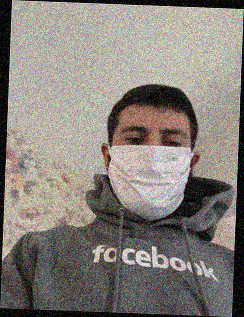with_mask: (108, 118, 192, 218)
